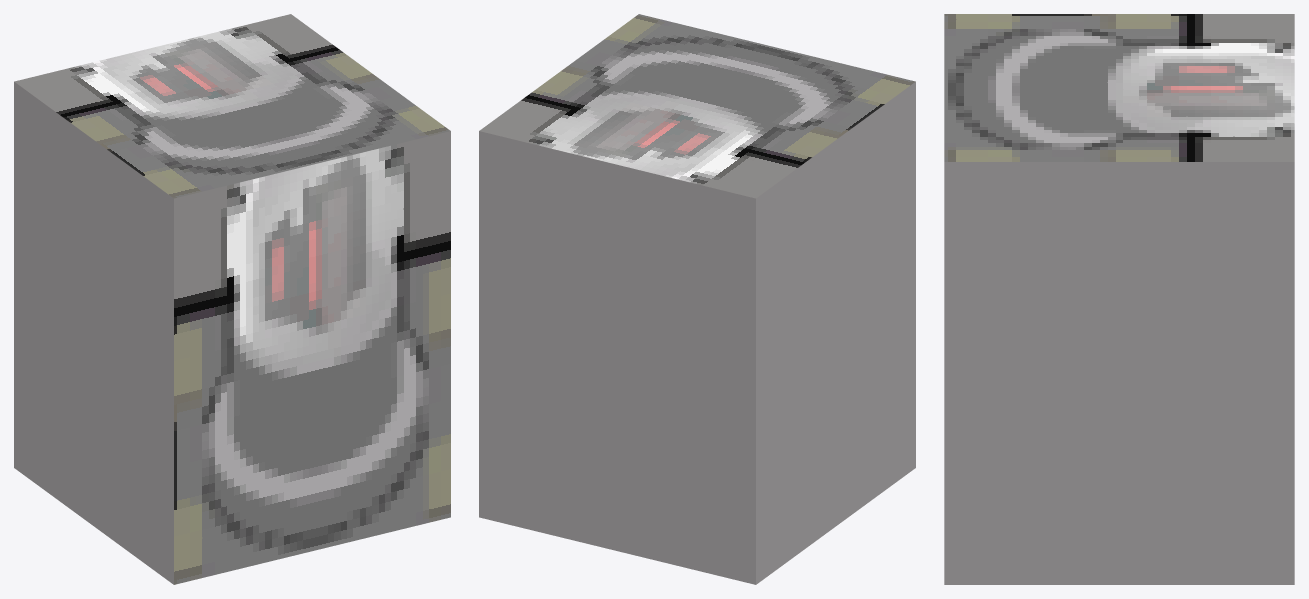
File: Building_ShardInhibitor.glb
The picture shows the model from 3 angles, left to right: view 1: azimuth 30°, elevation 25°; view 2: azimuth 150°, elevation 25°; view 3: azimuth 270°, elevation 25°; orthographic projection. The views are drawn at different scales.
Parts seen in each view (by area): view 1: ShardInhibitor; view 2: ShardInhibitor; view 3: ShardInhibitor.
Part boxes in pixels (x1,y1,x2,y2): ShardInhibitor: (14, 14, 450, 584); ShardInhibitor: (479, 14, 915, 584); ShardInhibitor: (944, 14, 1294, 584).
Bounding box in the file's own units: 0.9 × 1.2 × 0.9.
1 material, 1 textured.
